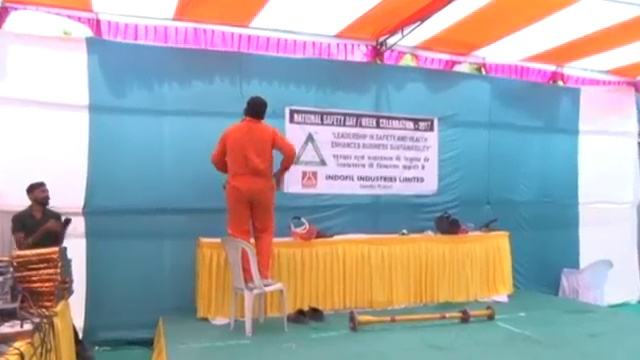helmet_off: (25, 180, 51, 208), (244, 94, 267, 123)
person: (212, 94, 298, 286), (8, 179, 76, 251)
